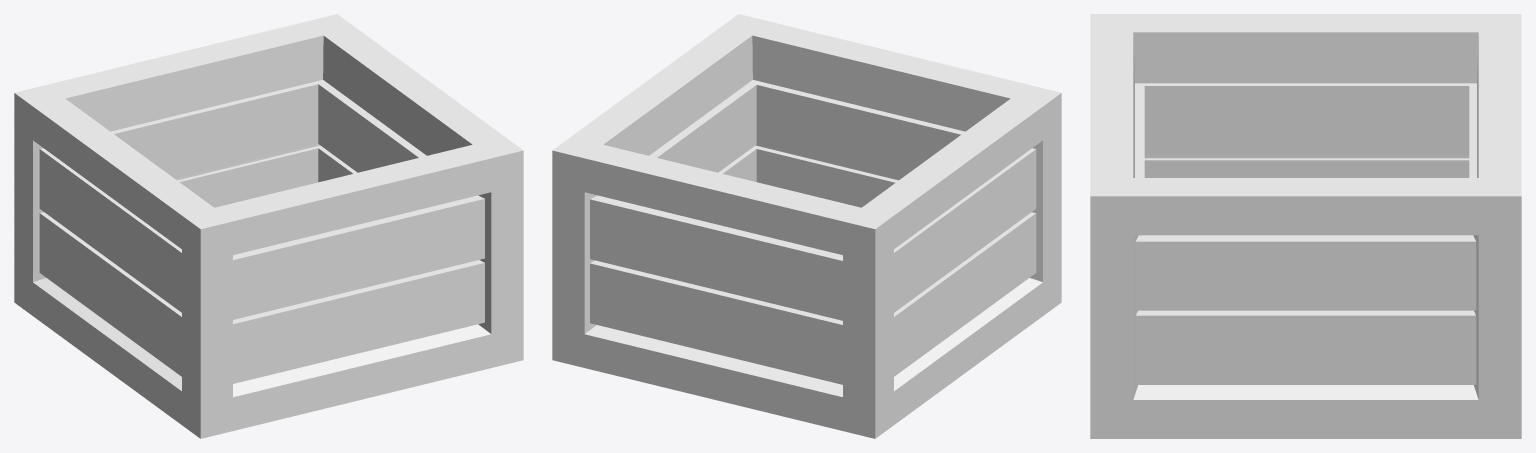
The model's file is DesertBoxSmall.glb.
The picture shows the model from 3 angles, left to right: view 1: azimuth 30°, elevation 25°; view 2: azimuth 150°, elevation 25°; view 3: azimuth 270°, elevation 25°; orthographic projection. The views are drawn at different scales.
Visible parts, largest first — view 1: DesertBoxSmall; view 2: DesertBoxSmall; view 3: DesertBoxSmall.
Part boxes in pixels (left/top/right/bottom): DesertBoxSmall: left=14, top=14, right=523, bottom=438; DesertBoxSmall: left=552, top=14, right=1061, bottom=438; DesertBoxSmall: left=1090, top=14, right=1521, bottom=438.
Size of the model in its own units: 1.4 by 0.8684 by 1.4.
1 material, 1 textured.
